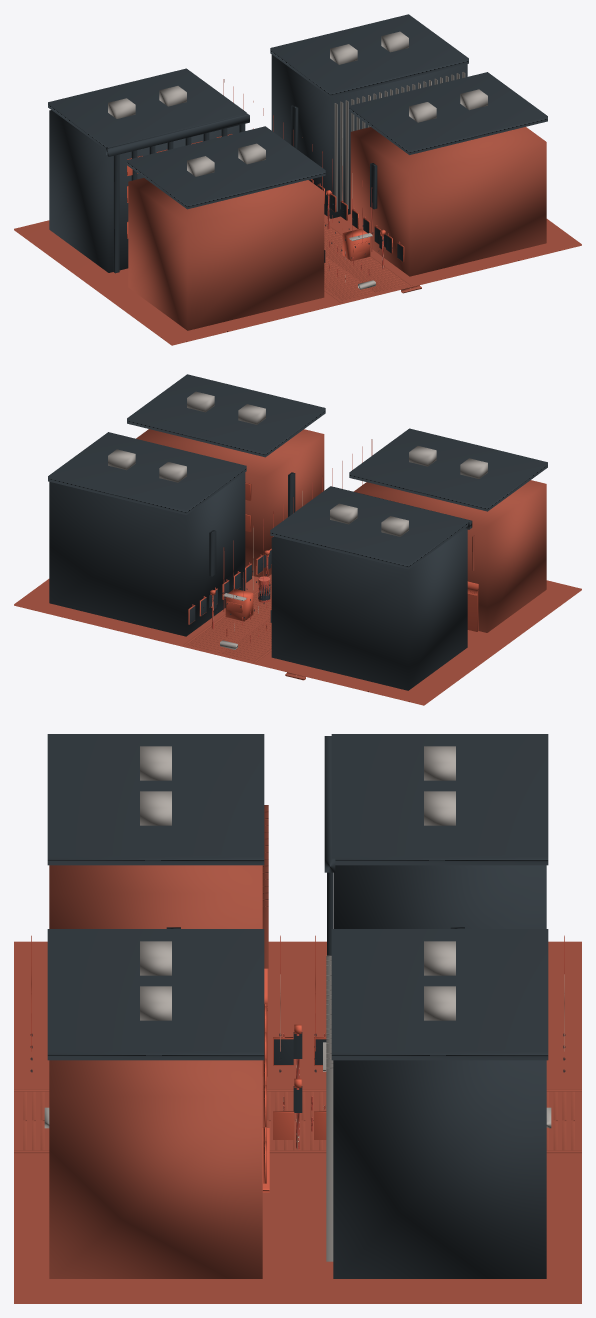
3 views of the same model, one above another, from view 1: azimuth 30°, elevation 25°; view 2: azimuth 150°, elevation 25°; view 3: azimuth 270°, elevation 25° (orthographic). The views are drawn at different scales.
Visible parts, largest first — view 1: daehangno_theater_facades_cluster, daehangno_pedestrian_street_ground, daehangno_theater_posters_and_neon, daehangno_ticketbox_booths_and_panels, daehangno_streetlights_and_banners; view 2: daehangno_theater_facades_cluster, daehangno_pedestrian_street_ground, daehangno_ticketbox_booths_and_panels, daehangno_theater_posters_and_neon, daehangno_streetlights_and_banners; view 3: daehangno_theater_facades_cluster, daehangno_pedestrian_street_ground, daehangno_streetlights_and_banners, daehangno_ticketbox_booths_and_panels, daehangno_theater_posters_and_neon.
Boxes of the visible parts, x1,y1,x2,y2 form: daehangno_theater_facades_cluster: (48, 14, 547, 330); daehangno_pedestrian_street_ground: (14, 214, 581, 345); daehangno_theater_posters_and_neon: (291, 105, 402, 261); daehangno_ticketbox_booths_and_panels: (310, 179, 404, 282); daehangno_streetlights_and_banners: (223, 79, 392, 289); daehangno_theater_facades_cluster: (48, 374, 547, 690); daehangno_pedestrian_street_ground: (14, 574, 581, 705); daehangno_ticketbox_booths_and_panels: (188, 548, 271, 642); daehangno_theater_posters_and_neon: (189, 472, 295, 623); daehangno_streetlights_and_banners: (203, 439, 372, 649); daehangno_theater_facades_cluster: (47, 734, 548, 1278); daehangno_pedestrian_street_ground: (14, 941, 581, 1303); daehangno_streetlights_and_banners: (30, 935, 565, 1149); daehangno_ticketbox_booths_and_panels: (273, 1033, 326, 1139); daehangno_theater_posters_and_neon: (166, 927, 464, 1064).
Bounding box in the file's own units: 48 × 18.14 × 32.
Materials: 5 (5 with a texture image).
